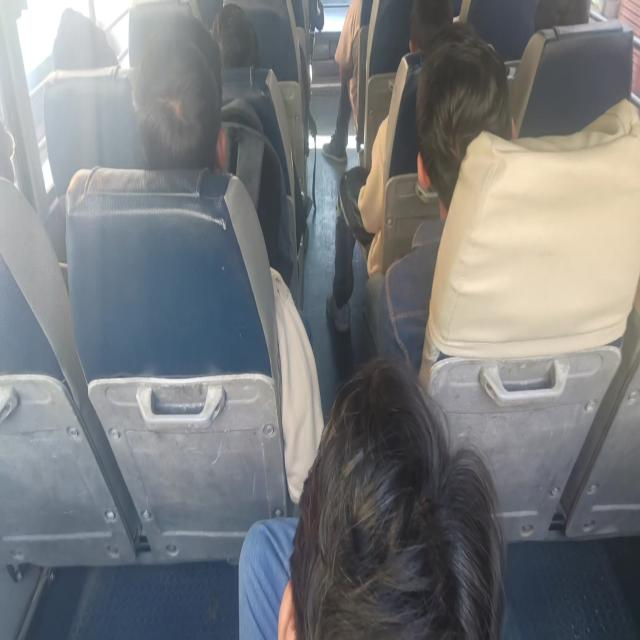person: (304, 359, 503, 640), (125, 28, 230, 176), (420, 39, 503, 200), (53, 3, 115, 72), (203, 6, 256, 80), (402, 0, 465, 58), (531, 0, 605, 41)
